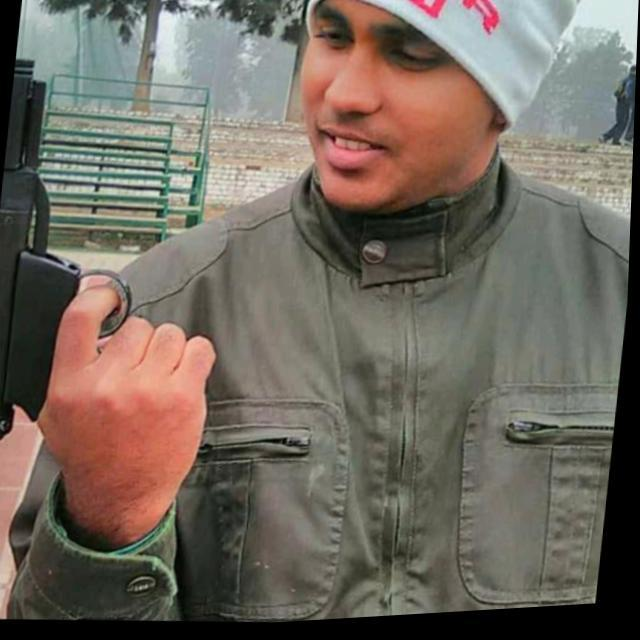weapon: (0, 38, 248, 467)
